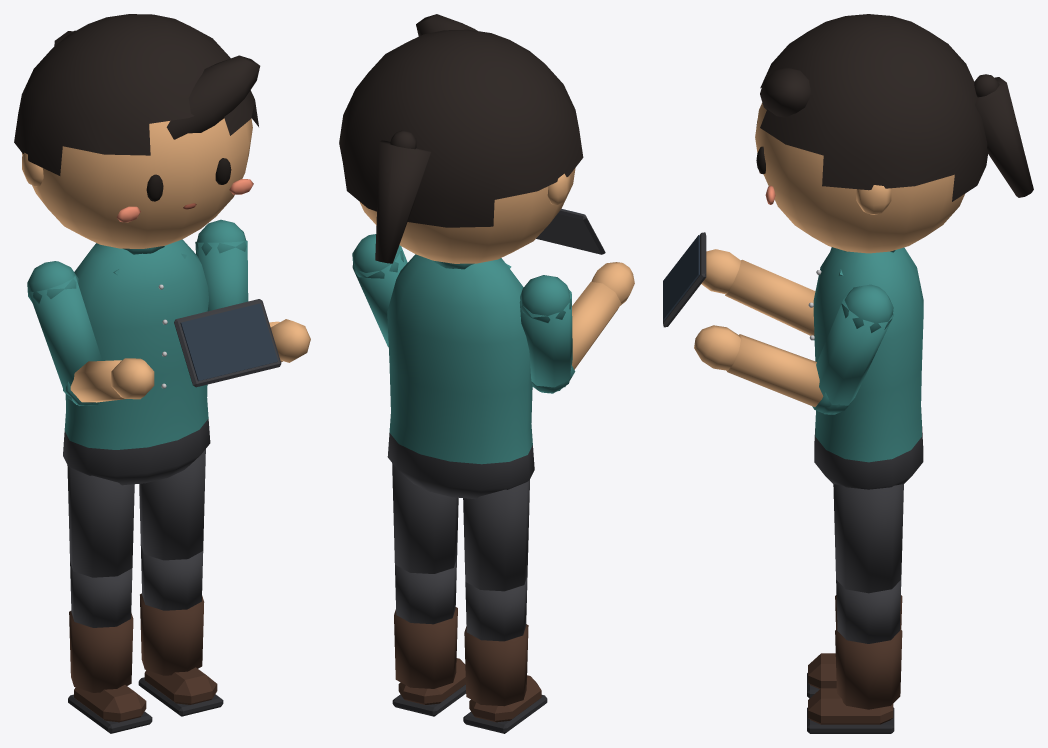
Rendered from era5_tablet_woman.glb.
3 renders of one model, left to right at view 1: azimuth 30°, elevation 25°; view 2: azimuth 150°, elevation 25°; view 3: azimuth 270°, elevation 25°, orthographic.
Visible parts, largest first — view 1: head, body, shin_R, shin_L, prop_tablet, leg_R, leg_L, arm_R, arm_L, forearm_R, forearm_L; view 2: head, body, shin_R, shin_L, leg_R, leg_L, arm_R, forearm_R, arm_L, prop_tablet; view 3: head, body, shin_L, leg_L, arm_L, forearm_L, forearm_R, prop_tablet, shin_R.
Boxes of the visible parts, <box> form: head: <box>14,14,260,248</box>; body: <box>63,239,210,485</box>; shin_R: <box>68,561,152,733</box>; shin_L: <box>138,544,223,716</box>; prop_tablet: <box>174,299,281,387</box>; leg_R: <box>67,465,134,577</box>; leg_L: <box>139,449,205,560</box>; arm_R: <box>27,261,102,405</box>; arm_L: <box>195,219,248,311</box>; forearm_R: <box>63,358,154,405</box>; forearm_L: <box>269,319,310,362</box>; head: <box>339,14,583,263</box>; body: <box>387,254,534,499</box>; shin_R: <box>463,575,547,733</box>; shin_L: <box>392,558,465,716</box>; leg_R: <box>463,480,529,591</box>; leg_L: <box>392,463,458,573</box>; arm_R: <box>519,275,572,393</box>; forearm_R: <box>531,262,634,392</box>; arm_L: <box>352,234,407,346</box>; prop_tablet: <box>536,208,605,254</box>; head: <box>755,14,1033,253</box>; body: <box>808,247,923,489</box>; shin_L: <box>807,580,902,733</box>; leg_L: <box>833,484,903,593</box>; arm_L: <box>816,284,893,414</box>; forearm_L: <box>694,325,850,414</box>; forearm_R: <box>701,249,815,340</box>; prop_tablet: <box>663,232,706,327</box>; shin_R: <box>807,595,902,698</box>.
Bounding box in the file's own units: 0.4913 × 1.46 × 0.7194.
